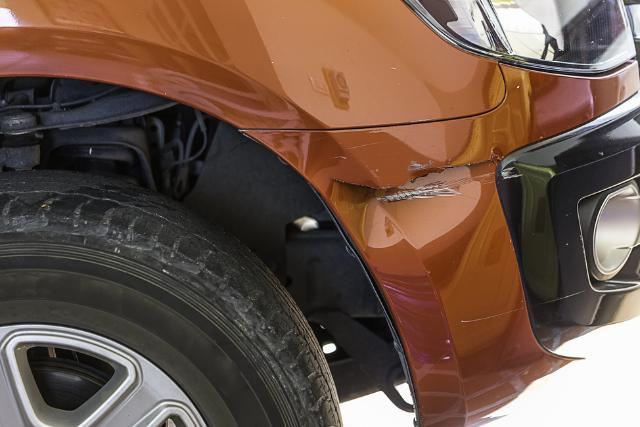Bumper: (286, 132, 640, 416)
